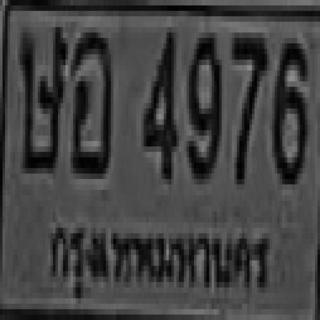A39: (18, 22, 65, 168)
A43: (69, 27, 110, 174)
N04: (141, 27, 174, 179)
N06: (270, 32, 305, 179)
N07: (229, 27, 265, 179)
N09: (186, 27, 219, 174)
P04: (44, 208, 272, 314)
